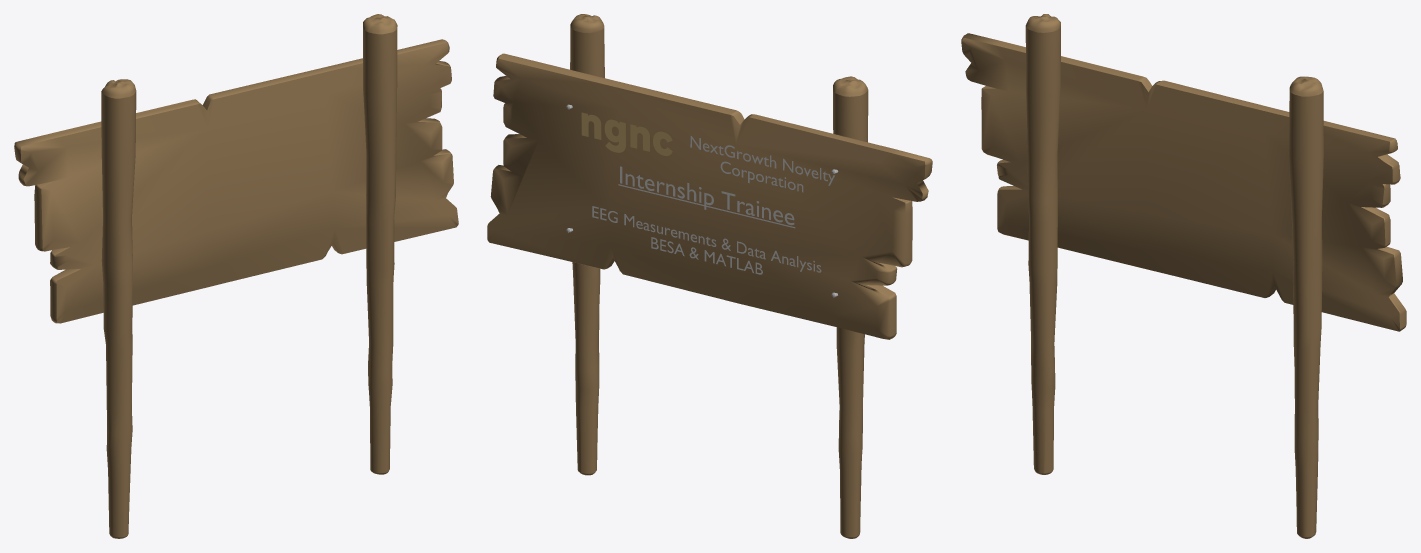
Rendered from work3.gltf.
3 renders of one model, left to right at view 1: azimuth 30°, elevation 25°; view 2: azimuth 150°, elevation 25°; view 3: azimuth 330°, elevation 25°, orthographic.
Visible parts, largest first — view 1: Wood_01_05_low, Wood_01_07_low4, Wood_01_07_low3; view 2: Wood_01_05_low, Wood_01_07_low4, Wood_01_07_low3, Text.001, ngnc-logo-gold, Text.002, Text; view 3: Wood_01_05_low, Wood_01_07_low3, Wood_01_07_low4.
Part boxes in pixels (x1,y1,x2,y2): Wood_01_05_low: (14,39,458,323); Wood_01_07_low4: (101,79,136,538); Wood_01_07_low3: (363,14,397,474); Wood_01_05_low: (487,53,932,339); Wood_01_07_low4: (833,76,868,538); Wood_01_07_low3: (570,14,604,475); Text.001: (592,206,821,274); ngnc-logo-gold: (581,112,672,156); Text.002: (618,166,795,228); Text: (690,136,834,192); Wood_01_05_low: (961,33,1406,331); Wood_01_07_low3: (1288,76,1323,538); Wood_01_07_low4: (1025,14,1060,474).
Bounding box in the file's own units: 2.67 × 2.64 × 0.2919.
5 materials, 1 textured.
